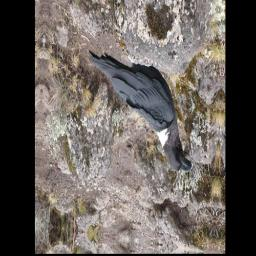Crow: (81, 47, 198, 174)
